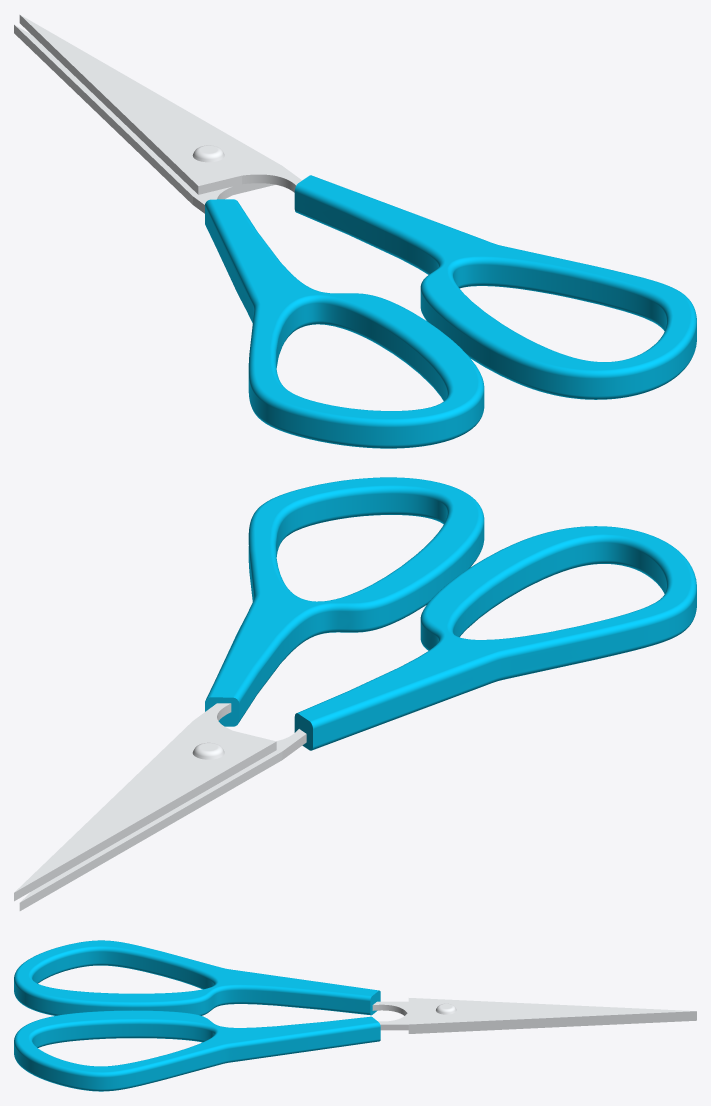
The model's file is Scissors.glb.
The picture shows the model from 3 angles, top to bottom: view 1: azimuth 30°, elevation 25°; view 2: azimuth 150°, elevation 25°; view 3: azimuth 270°, elevation 25°; orthographic projection. The views are drawn at different scales.
Size of the model in its own units: 0.0761 by 0.005 by 0.1629.
